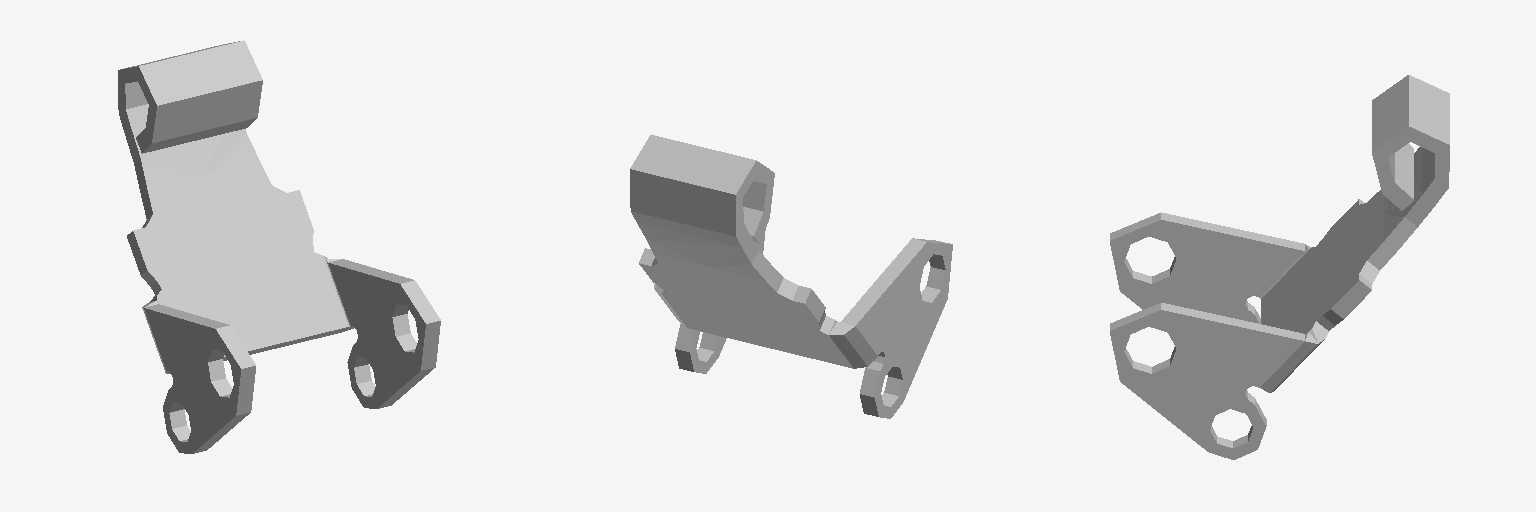
The model's file is Hinge_3_Holes_Connector.obj.
3 views of the same model, side by side, from view 1: azimuth 30°, elevation 25°; view 2: azimuth 150°, elevation 25°; view 3: azimuth 270°, elevation 25° (orthographic).
Visible parts, largest first — view 1: [number redacted]; view 2: [number redacted]; view 3: [number redacted].
Boxes of the visible parts, x1,y1,x2,y2 form: [number redacted]: [118, 40, 440, 453]; [number redacted]: [630, 135, 952, 418]; [number redacted]: [1110, 75, 1449, 459].
Size of the model in its own units: 13.2 by 19.66 by 19.51.